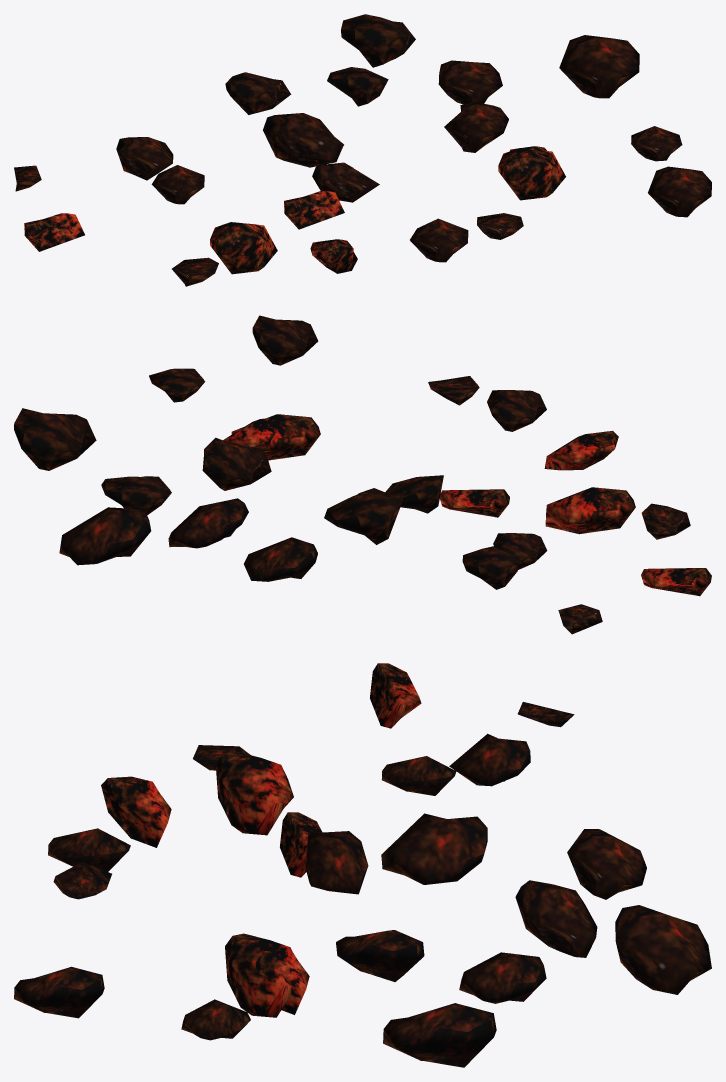
Rendered from Coal_Blunch.fbx.
The picture shows the model from 3 angles, top to bottom: view 1: azimuth 30°, elevation 25°; view 2: azimuth 150°, elevation 25°; view 3: azimuth 270°, elevation 25°; orthographic projection. The views are drawn at different scales.
Parts seen in each view (by area): view 1: SM_CoalBlunch_LOD0; view 2: SM_CoalBlunch_LOD0; view 3: SM_CoalBlunch_LOD0.
Boxes of the visible parts, <box> form: SM_CoalBlunch_LOD0: <box>14,14,711,286</box>; SM_CoalBlunch_LOD0: <box>14,315,711,634</box>; SM_CoalBlunch_LOD0: <box>14,663,711,1067</box>.
Bounding box in the file's own units: 54.19 × 5.77 × 40.54.
